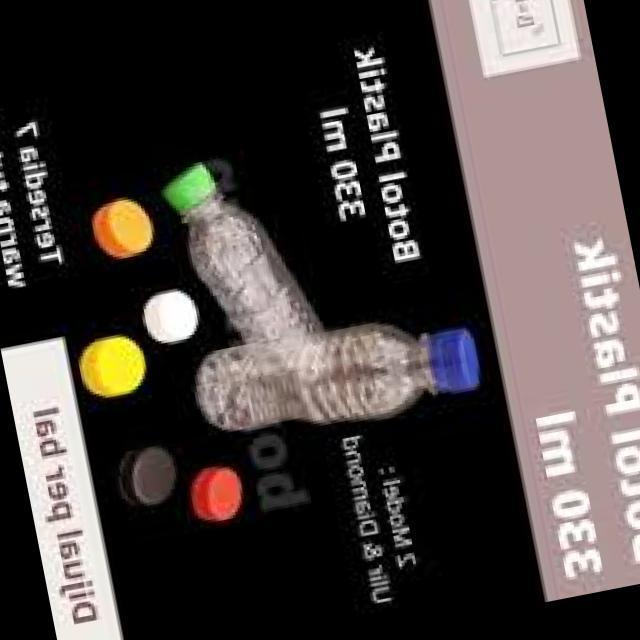good: (176, 262, 516, 502), (141, 104, 383, 416)
